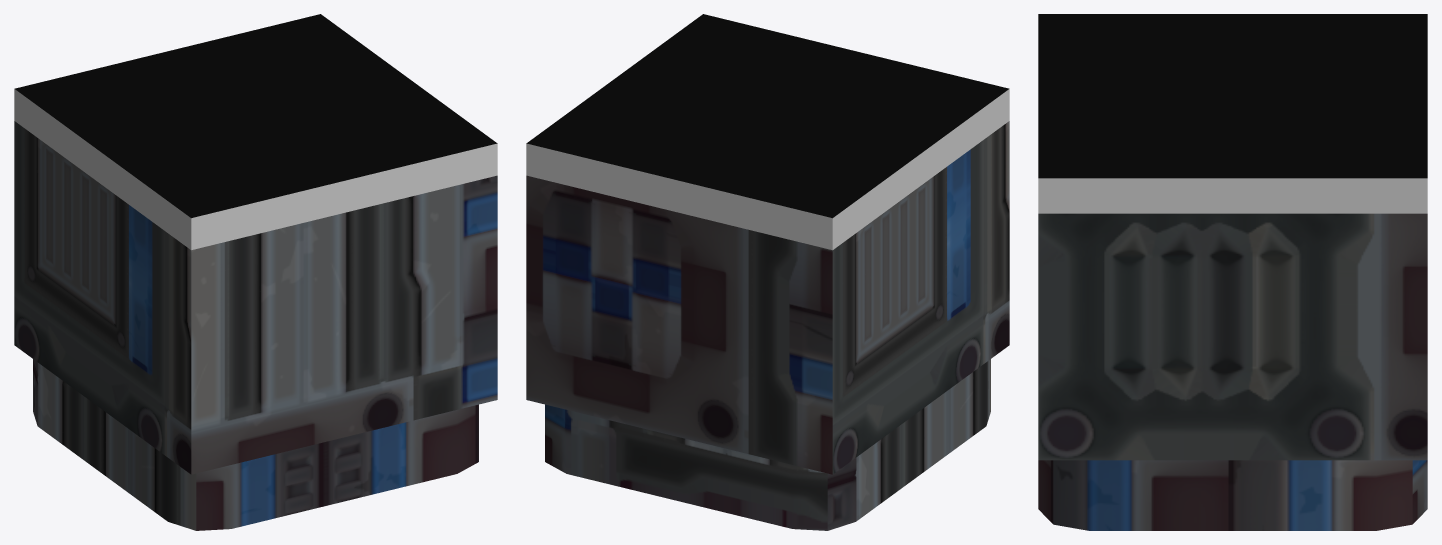
File: obj_interactive_textblock_01.fbx
3 renders of one model, left to right at view 1: azimuth 30°, elevation 25°; view 2: azimuth 150°, elevation 25°; view 3: azimuth 270°, elevation 25°, orthographic. The views are drawn at different scales.
Visible parts, largest first — view 1: obj_interactive_textblock_lp.001; view 2: obj_interactive_textblock_lp.001; view 3: obj_interactive_textblock_lp.001.
Boxes of the visible parts, bbox=[...] form: obj_interactive_textblock_lp.001: bbox=[14, 14, 497, 530]; obj_interactive_textblock_lp.001: bbox=[526, 14, 1009, 530]; obj_interactive_textblock_lp.001: bbox=[1038, 14, 1427, 530].
Bounding box in the file's own units: 1 × 1 × 1.
